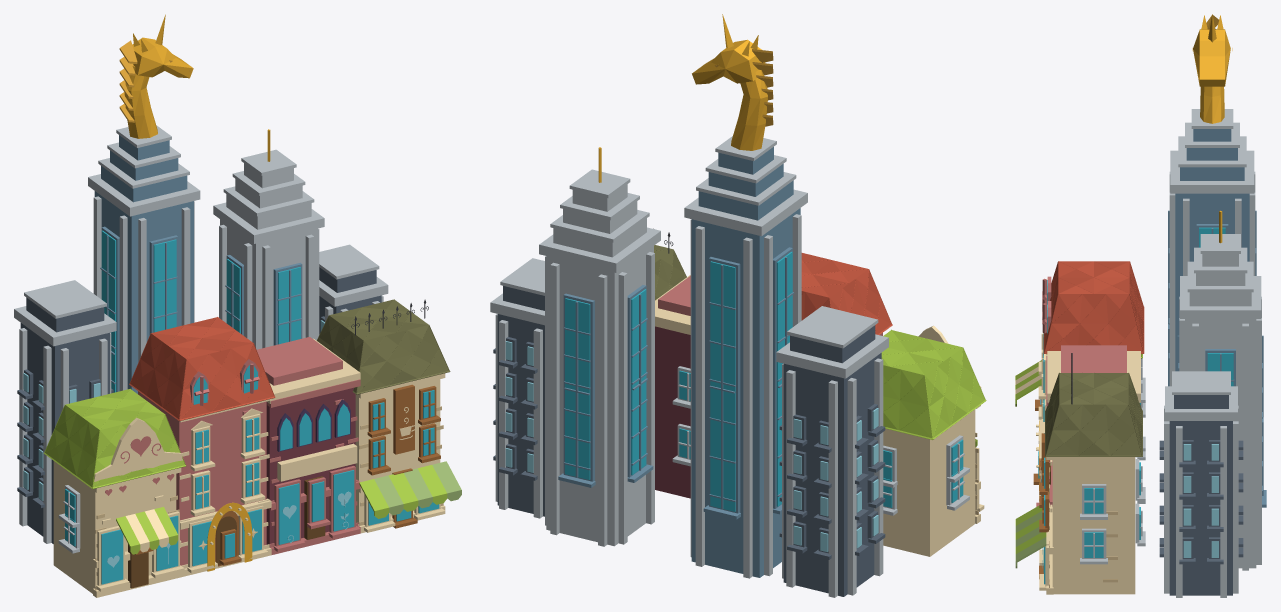
Rendered from building.glb.
The picture shows the model from 3 angles, left to right: view 1: azimuth 30°, elevation 25°; view 2: azimuth 150°, elevation 25°; view 3: azimuth 270°, elevation 25°; orthographic projection. The views are drawn at different scales.
Parts seen in each view (by area): view 1: Building_Manehattan_BlockAndSkyline, Building_Manehattan_FoldedUnicorn; view 2: Building_Manehattan_BlockAndSkyline, Building_Manehattan_FoldedUnicorn; view 3: Building_Manehattan_BlockAndSkyline, Building_Manehattan_FoldedUnicorn.
Boxes of the visible parts, left/top/right/bottom form: Building_Manehattan_BlockAndSkyline: left=14, top=125, right=461, bottom=597; Building_Manehattan_FoldedUnicorn: left=119, top=14, right=193, bottom=138; Building_Manehattan_BlockAndSkyline: left=490, top=136, right=986, bottom=597; Building_Manehattan_FoldedUnicorn: left=692, top=14, right=773, bottom=150; Building_Manehattan_BlockAndSkyline: left=1015, top=109, right=1266, bottom=597; Building_Manehattan_FoldedUnicorn: left=1192, top=14, right=1232, bottom=123.
Size of the model in its own units: 1.52 by 1.95 by 0.913.
